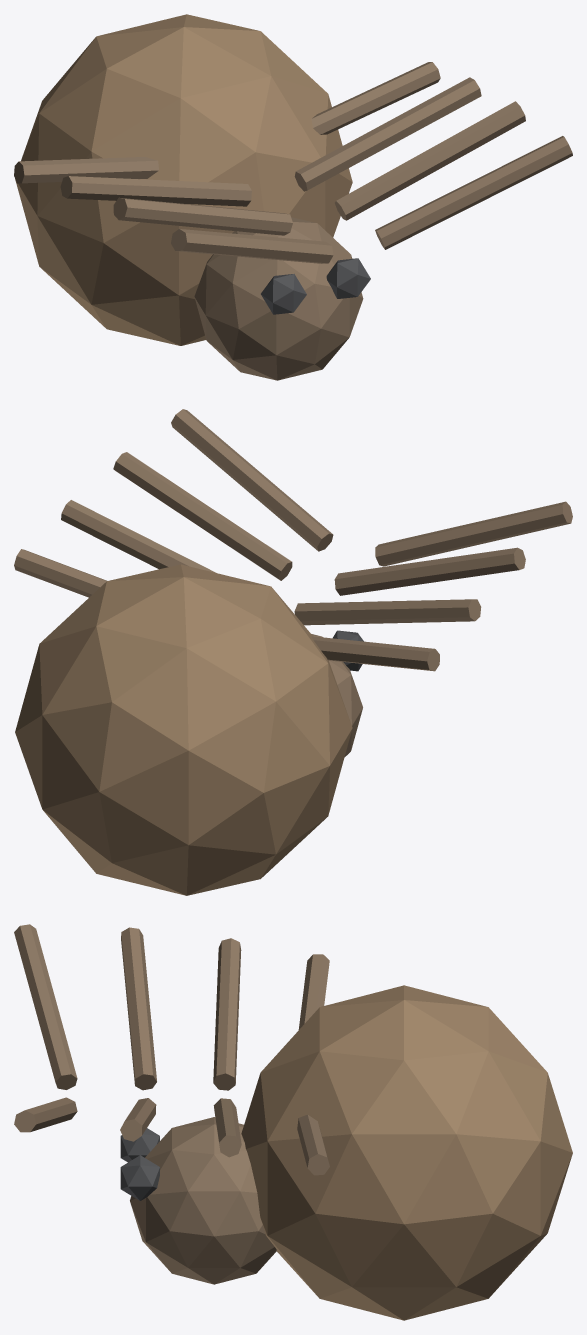
Rendered from neoscona-punctigera.glb.
The picture shows the model from 3 angles, top to bottom: view 1: azimuth 30°, elevation 25°; view 2: azimuth 150°, elevation 25°; view 3: azimuth 270°, elevation 25°; orthographic projection.
Parts seen in each view (by area): view 1: abdomen, cephalothorax, leg01, leg11, leg21, leg2-1, leg1-1, leg0-1, leg31, leg3-1, eye-1, eye1; view 2: abdomen, leg11, leg0-1, leg01, leg1-1, leg2-1, leg21, leg3-1, leg31, cephalothorax; view 3: abdomen, cephalothorax, leg0-1, leg1-1, leg2-1, leg3-1, leg01, eye1, leg31, leg21, leg11, eye-1.
Boxes of the visible parts, x1,y1,x2,y2 form: abdomen: (15,14,352,345); cephalothorax: (194,217,363,380); leg01: (375,136,572,249); leg11: (335,101,525,220); leg21: (294,77,481,191); leg2-1: (60,176,251,206); leg1-1: (113,197,292,235); leg0-1: (171,229,333,263); leg31: (311,62,440,134); leg3-1: (14,157,158,183); eye-1: (261,274,306,314); eye1: (326,258,370,298); abdomen: (15,564,352,895); leg11: (113,452,292,580); leg0-1: (375,501,572,566); leg01: (171,409,333,551); leg1-1: (334,547,525,595); leg2-1: (294,599,481,625); leg21: (61,500,215,572); leg3-1: (311,636,439,671); leg31: (14,549,106,597); cephalothorax: (311,634,362,756); abdomen: (241,985,572,1320); cephalothorax: (130,1117,276,1284); leg0-1: (14,924,77,1089); leg1-1: (121,927,156,1090); leg2-1: (213,938,241,1090); leg3-1: (298,954,329,1029); leg01: (14,1097,77,1132); eye1: (120,1155,159,1200); leg31: (297,1114,329,1175); leg21: (213,1098,241,1157); leg11: (120,1098,156,1141); eye-1: (120,1128,159,1162).
Bounding box in the file's own units: 0.4572 × 0.32 × 0.5297.
